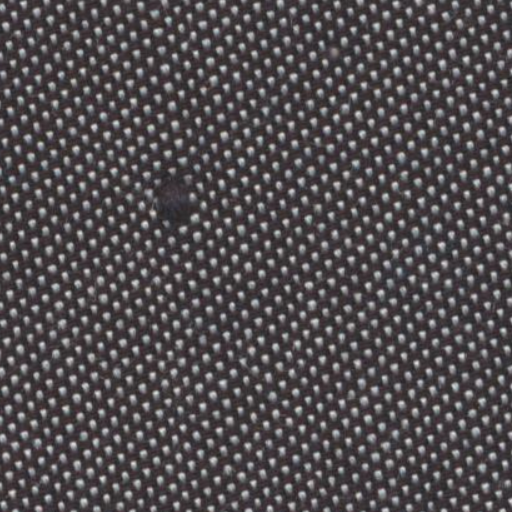MianQiu: (136, 162, 208, 234)
